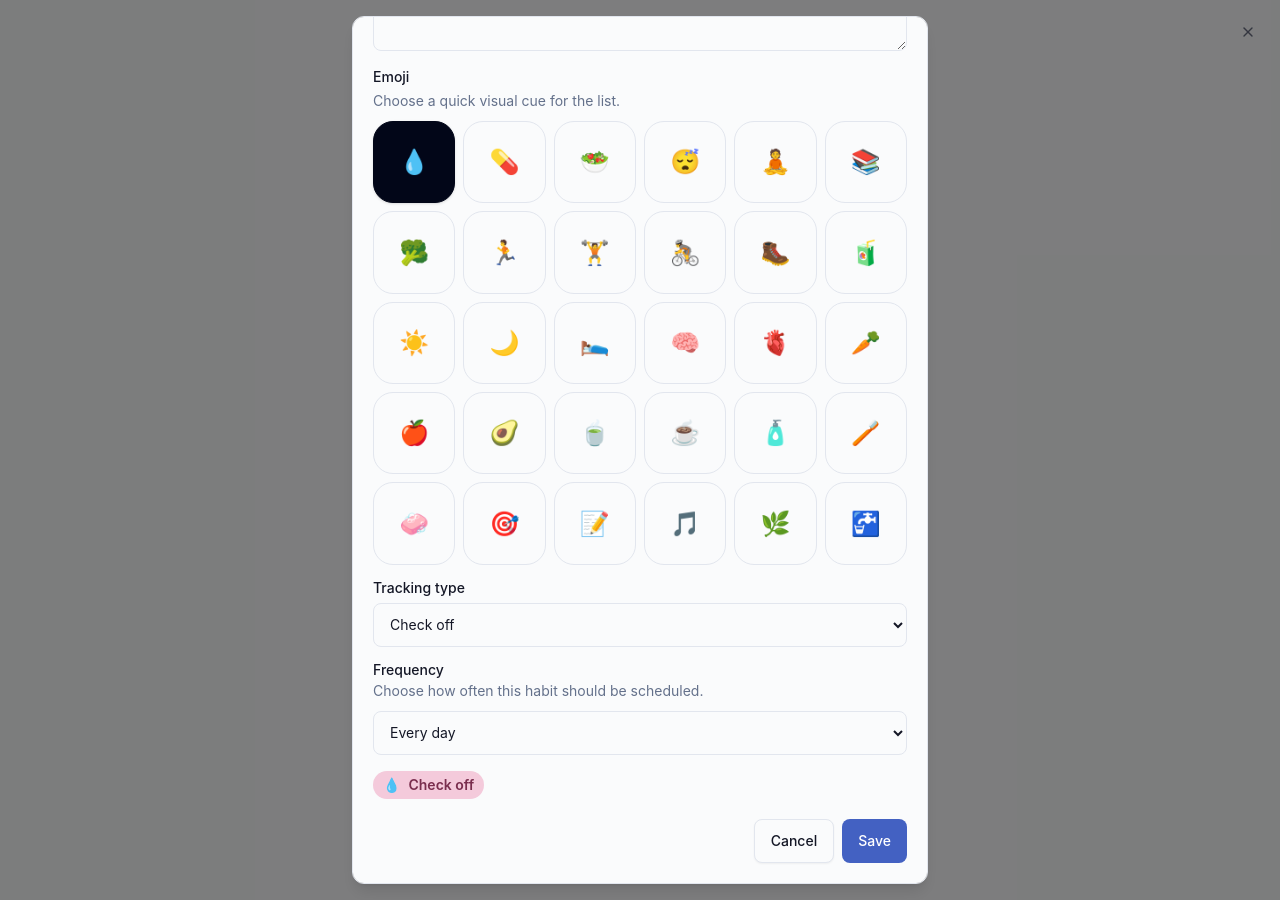
Test: HabitFormDialog › shows weekly target input only when weekly frequency is selected
(page scrolled)
Expected: the field labelled "Times per week" is not shown
Select "X times per week" in the dropdown labelled "Frequency" at {"x": 640, "y": 733}, box [373, 711, 907, 755]
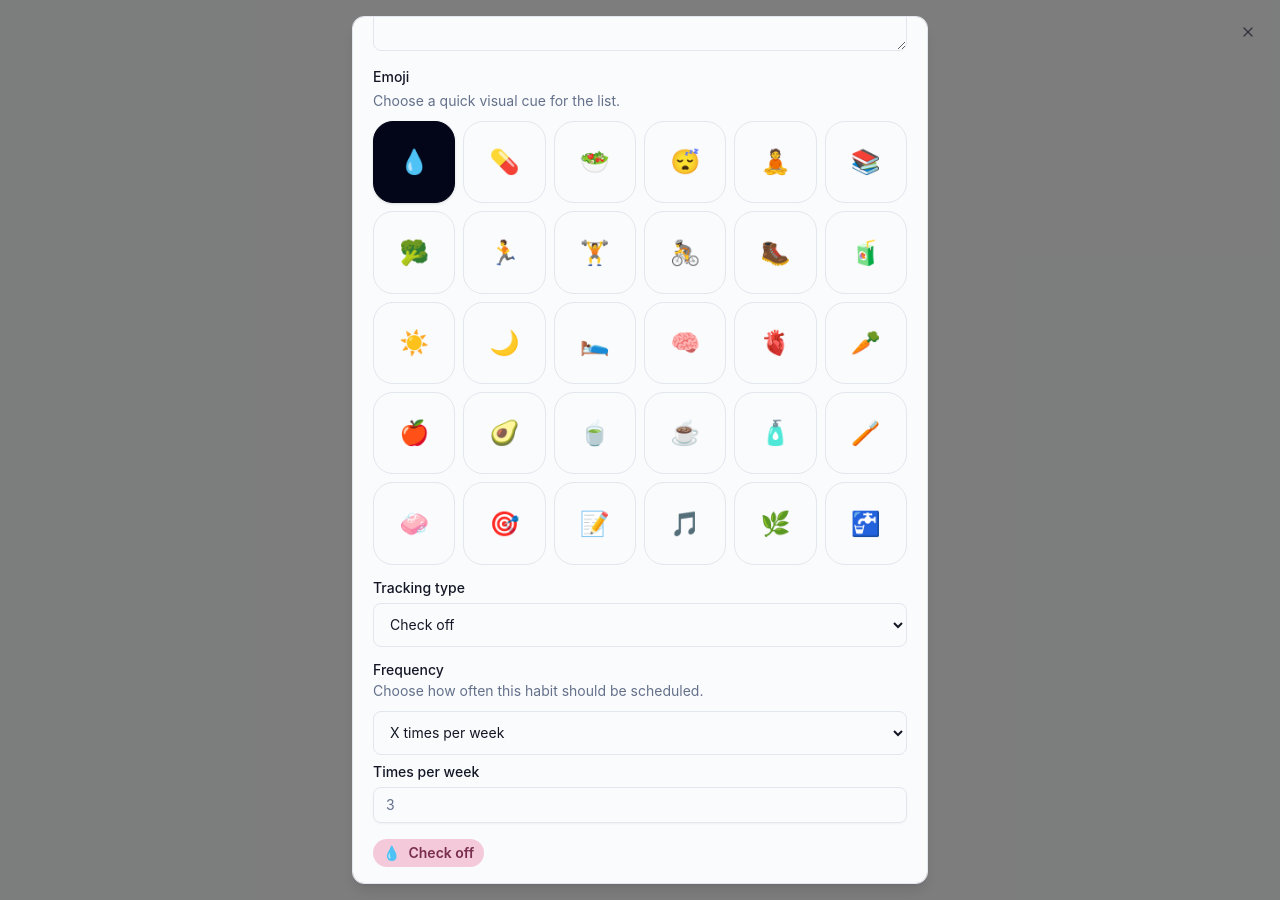
Expected: the number field labelled "Times per week" is shown, [373, 787, 907, 823]
Select "Every day" in the dropdown labelled "Frequency" at {"x": 640, "y": 733}, box [373, 711, 907, 755]
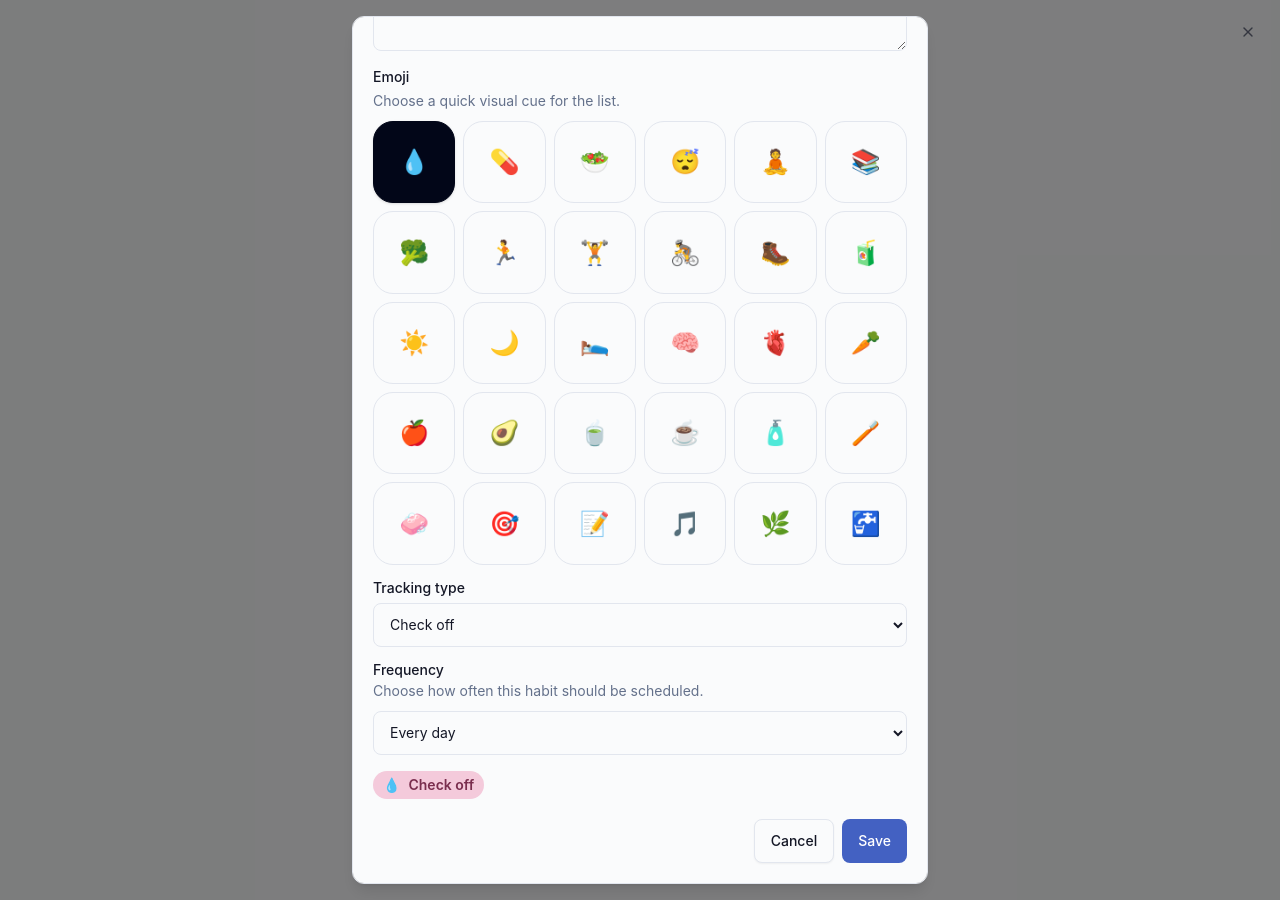
Expected: the label labelled "Times per week" is gone
